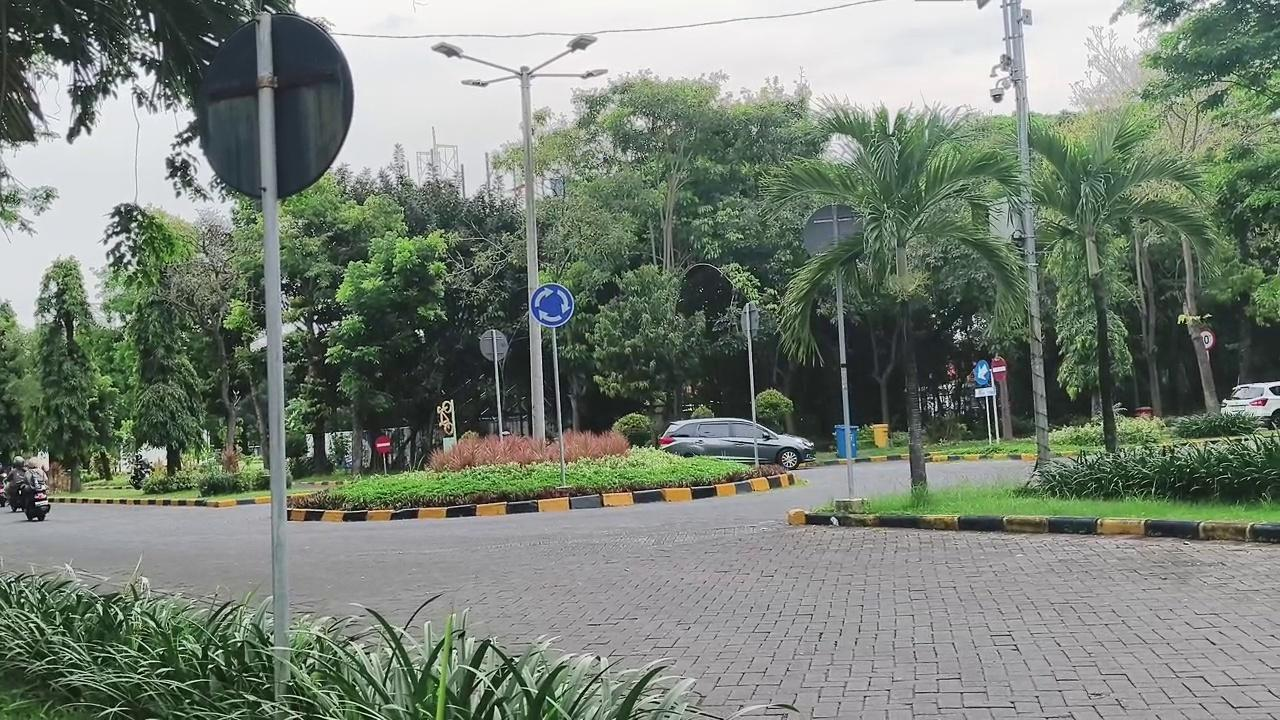Motor: (21, 474, 51, 521), (130, 453, 152, 489)
